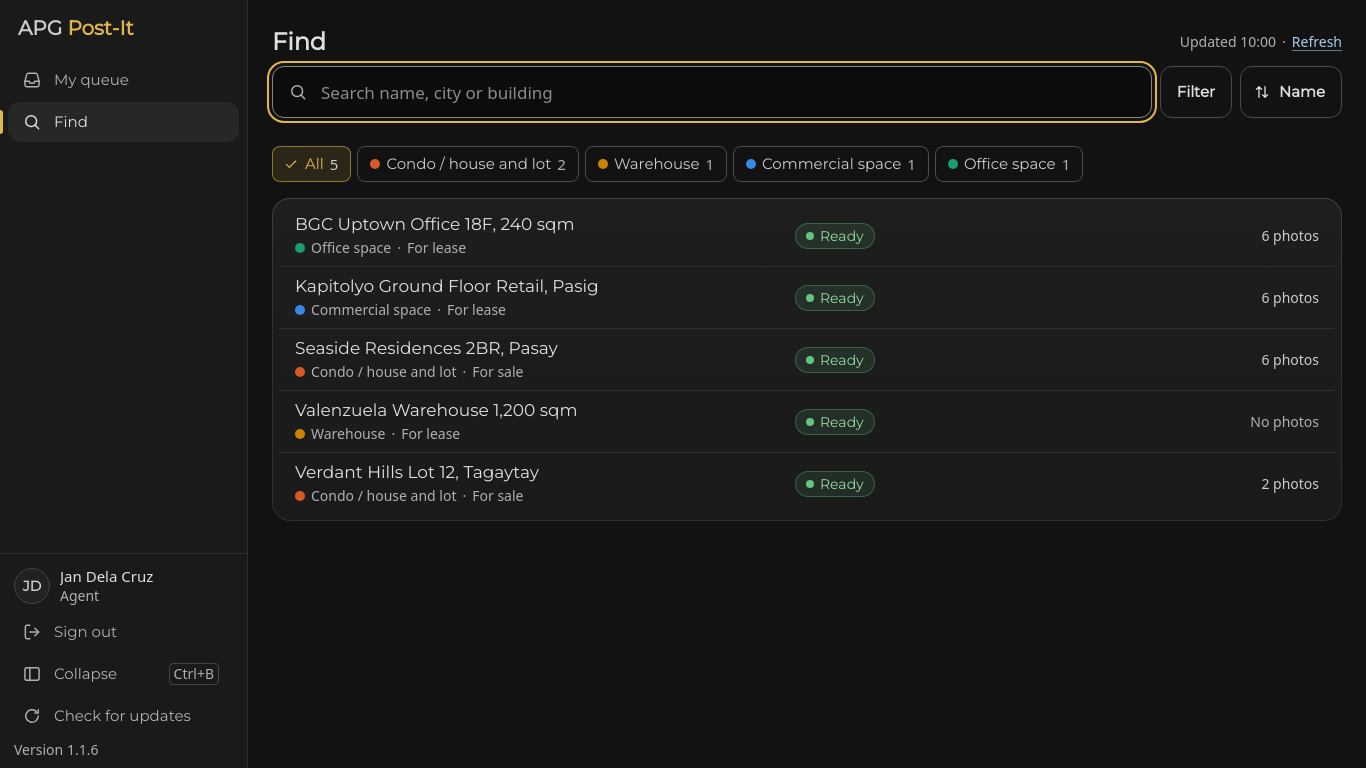
Test: Find, over the test library › searches on every keystroke, from a box that has the focus on arrival
Expected: the text "Verdant Hills Lot 12, Tagaytay" is shown, [295, 462, 539, 482]
Expected: the heading "Find" is shown, [272, 27, 326, 57]
// Best match while searching: a word that starts with it before one that only contains it.
Type "w" into the search field named "Search listings".
click(712, 92); type("w")  # box [272, 66, 1152, 118]
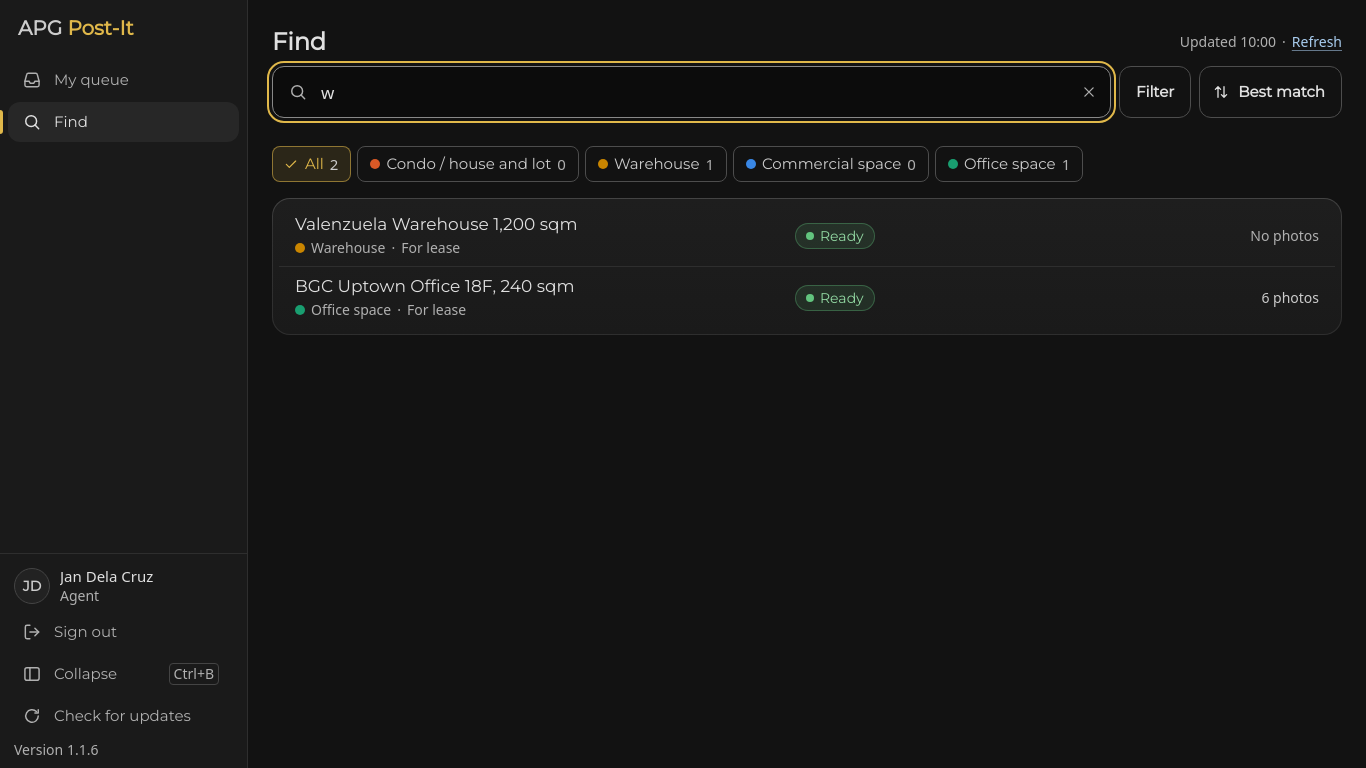
Type "are" into the search field named "Search listings".
click(691, 92); type("are")  # box [272, 66, 1111, 118]
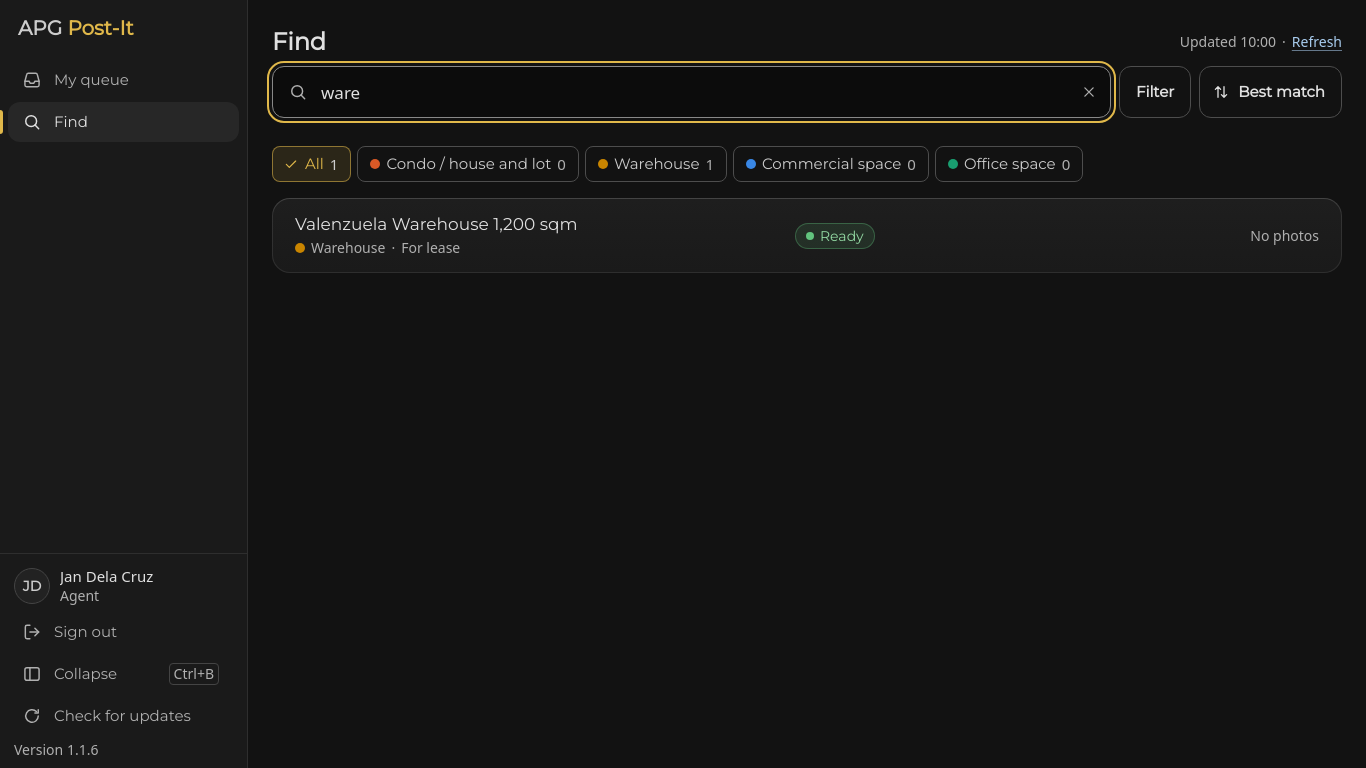
Now the button "All 1" is shown, box [272, 146, 351, 182]
